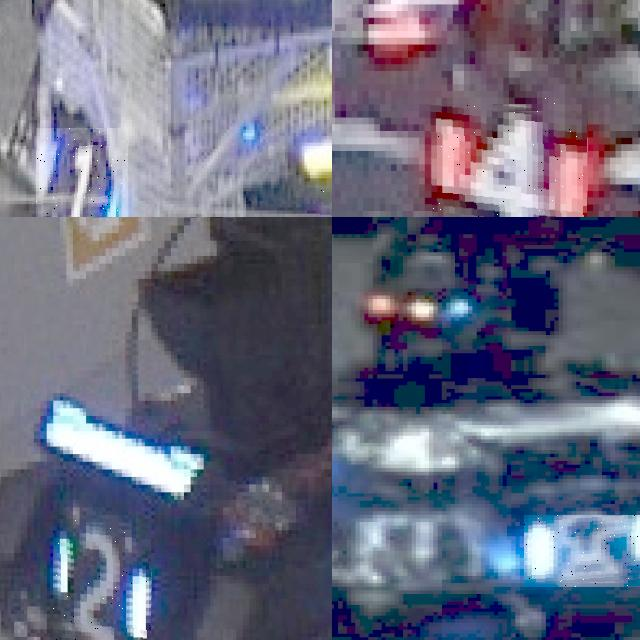B1: (36, 128, 128, 217)
B2: (53, 518, 151, 640)
Bs: (524, 515, 640, 587)
R4: (424, 97, 587, 217)
